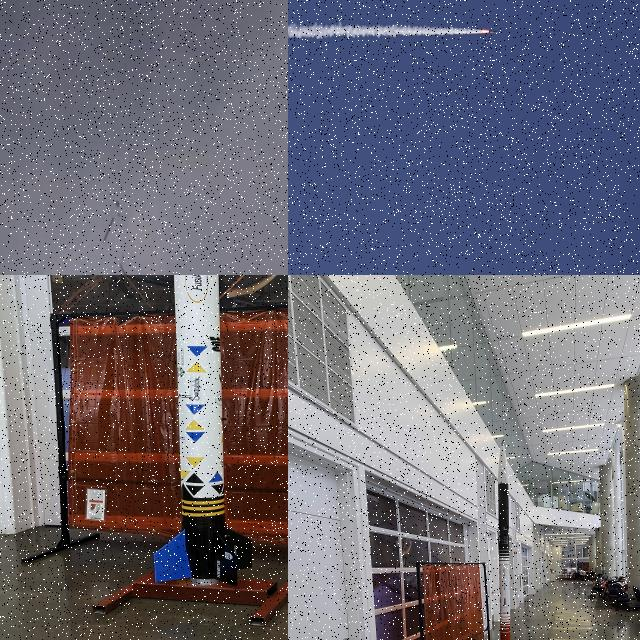Rocket: (153, 275, 252, 587), (498, 441, 511, 640), (119, 263, 129, 275), (489, 30, 498, 33)
